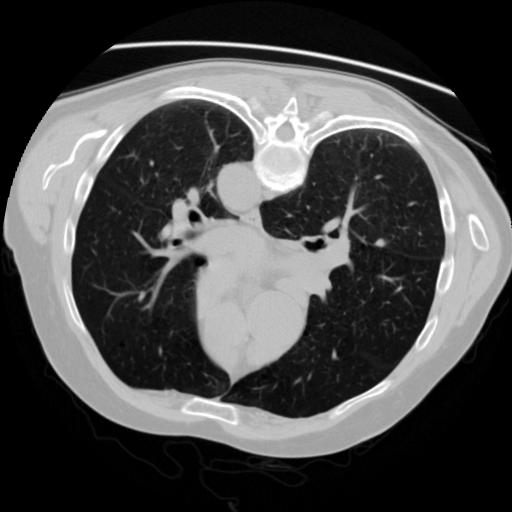nodule: (373, 236, 390, 253)
